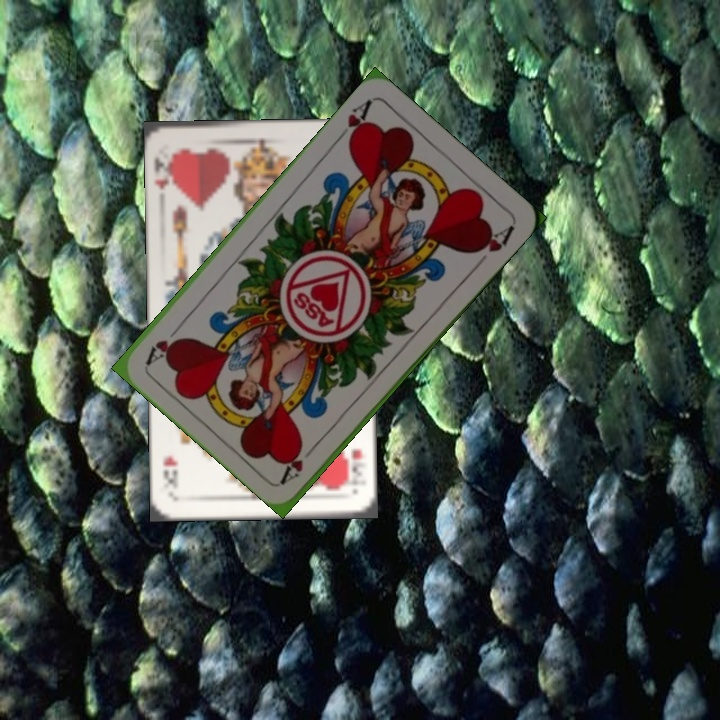HA: (331, 95, 375, 149), (277, 436, 322, 486)
HK: (151, 149, 179, 194), (342, 444, 369, 485)
